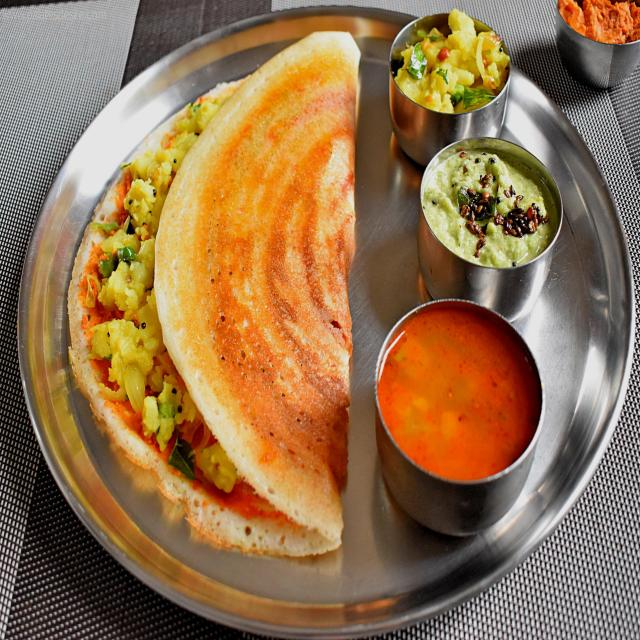chutney: (409, 130, 561, 280)
masala_dosa: (59, 28, 366, 580)
sambhar: (379, 302, 545, 528)
